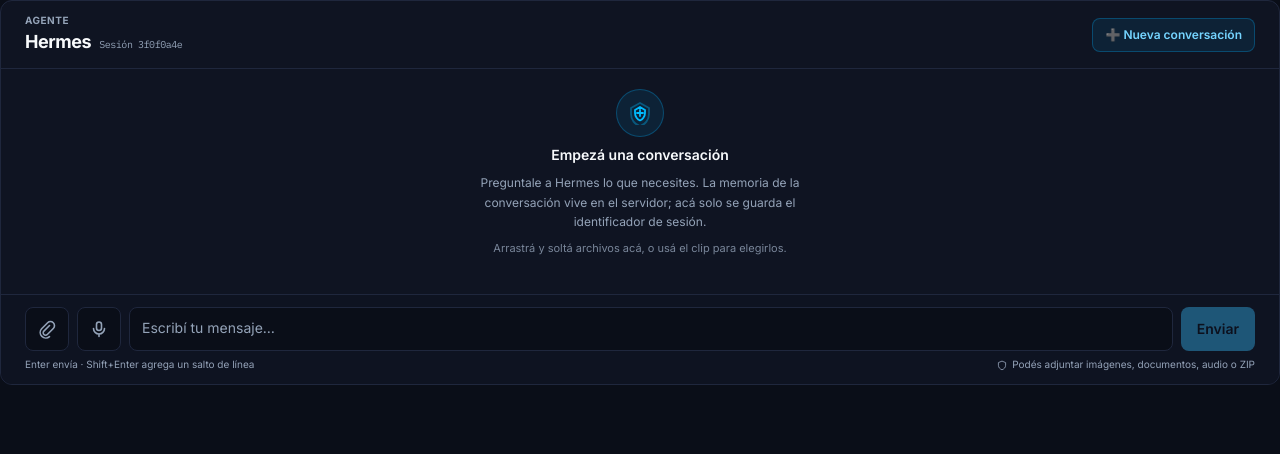
Test case: HermesChat › renders the authoritative output as sanitized Markdown
The width and height of the screenshot is (1280, 454).
Type "hola" into the text box labelled "Escribí tu mensaje…" at (651, 329), box [129,307,1173,351]
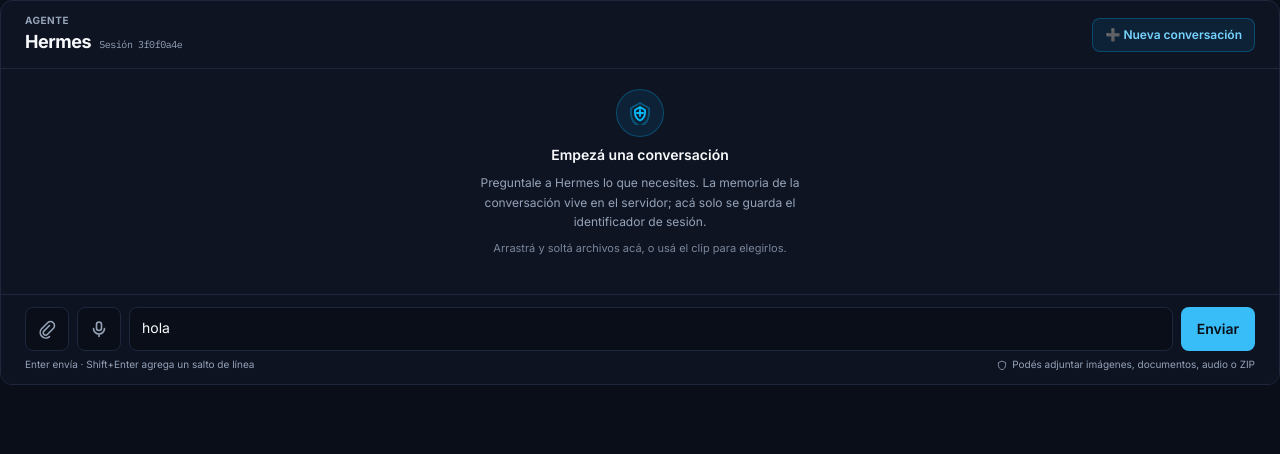
Click the button "Enviar" at (1218, 329), box [1181,307,1255,351]
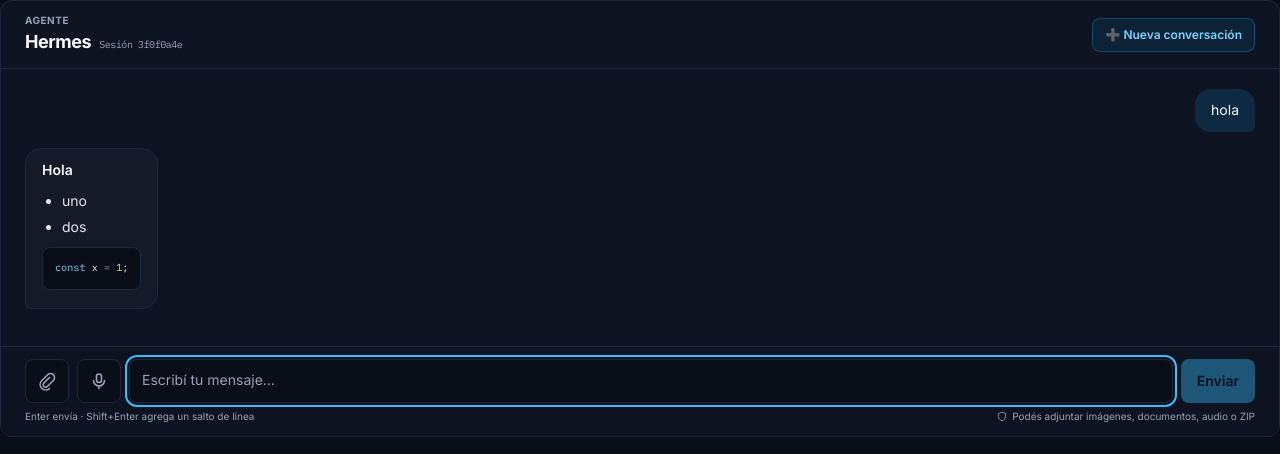
Check: the number of list items is 2, box [62,192,87,208]; [62,218,86,235]
Check: the element showing "const x = 1;" is shown, box [55,260,128,277]
